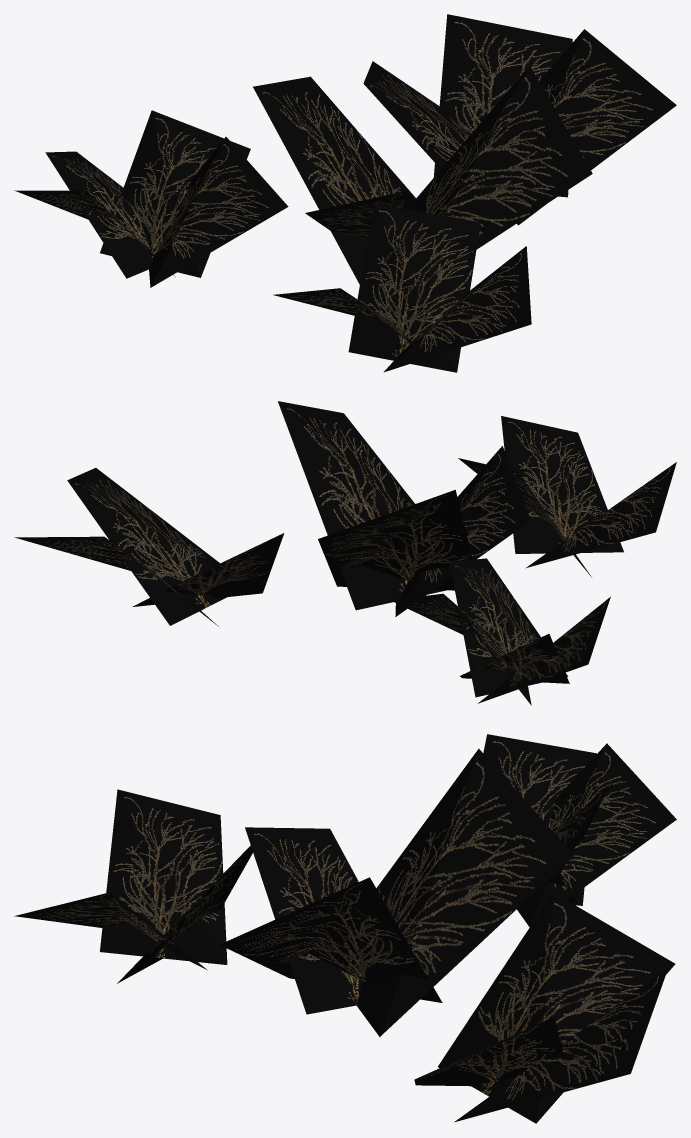
Rendered from marsh_trava_black_big.fbx.
3 views of the same model, one above another, from view 1: azimuth 30°, elevation 25°; view 2: azimuth 150°, elevation 25°; view 3: azimuth 270°, elevation 25° (orthographic). The views are drawn at different scales.
Parts seen in each view (by area): view 1: marsh_trava_black_big.ogf; view 2: marsh_trava_black_big.ogf; view 3: marsh_trava_black_big.ogf.
Part boxes in pixels (left/top/right/bottom): marsh_trava_black_big.ogf: left=14, top=14, right=676, bottom=372; marsh_trava_black_big.ogf: left=14, top=401, right=676, bottom=705; marsh_trava_black_big.ogf: left=14, top=734, right=676, bottom=1123.
Size of the model in its own units: 240 by 71.49 by 205.
